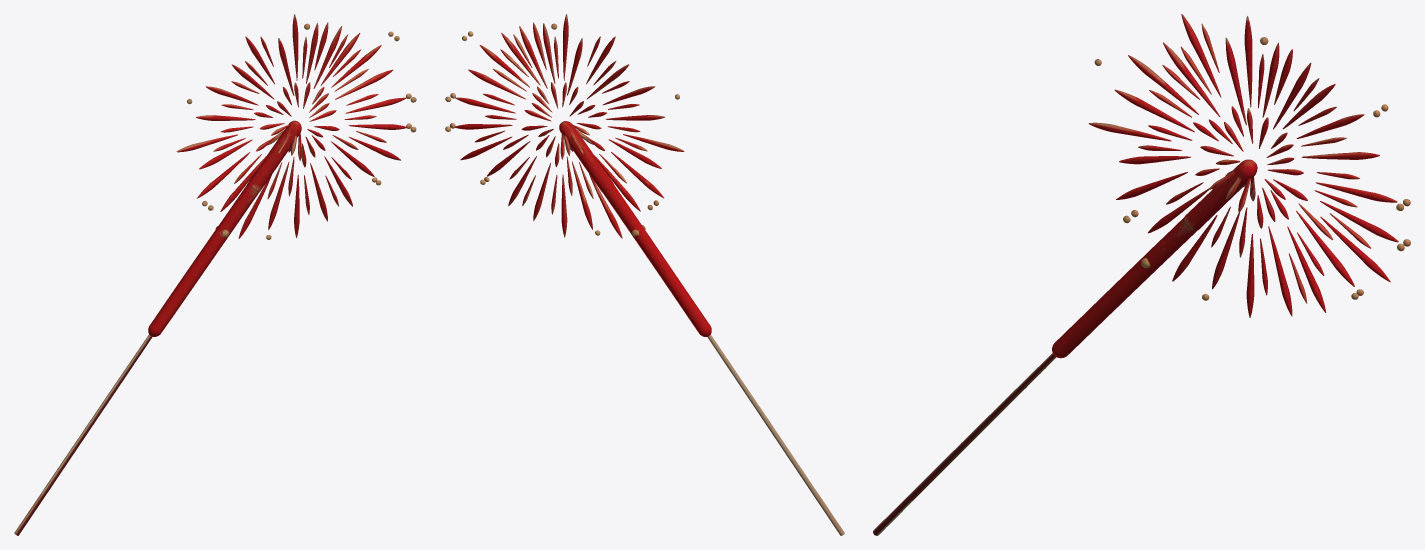
The model's file is csillagszoro.glb.
3 renders of one model, left to right at view 1: azimuth 30°, elevation 25°; view 2: azimuth 150°, elevation 25°; view 3: azimuth 330°, elevation 25°, orthographic. The views are drawn at different scales.
Bounding box in the file's own units: 1.74 × 1.9 × 0.1041.
1 material, 1 textured.
